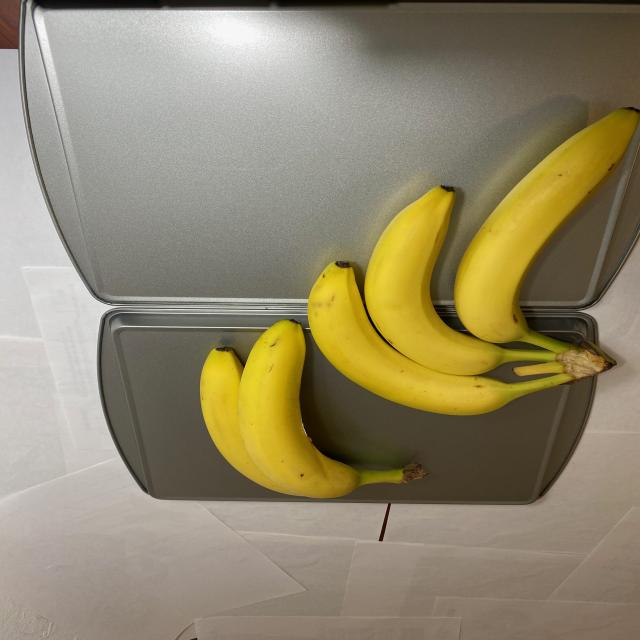banana: (198, 103, 638, 499)
